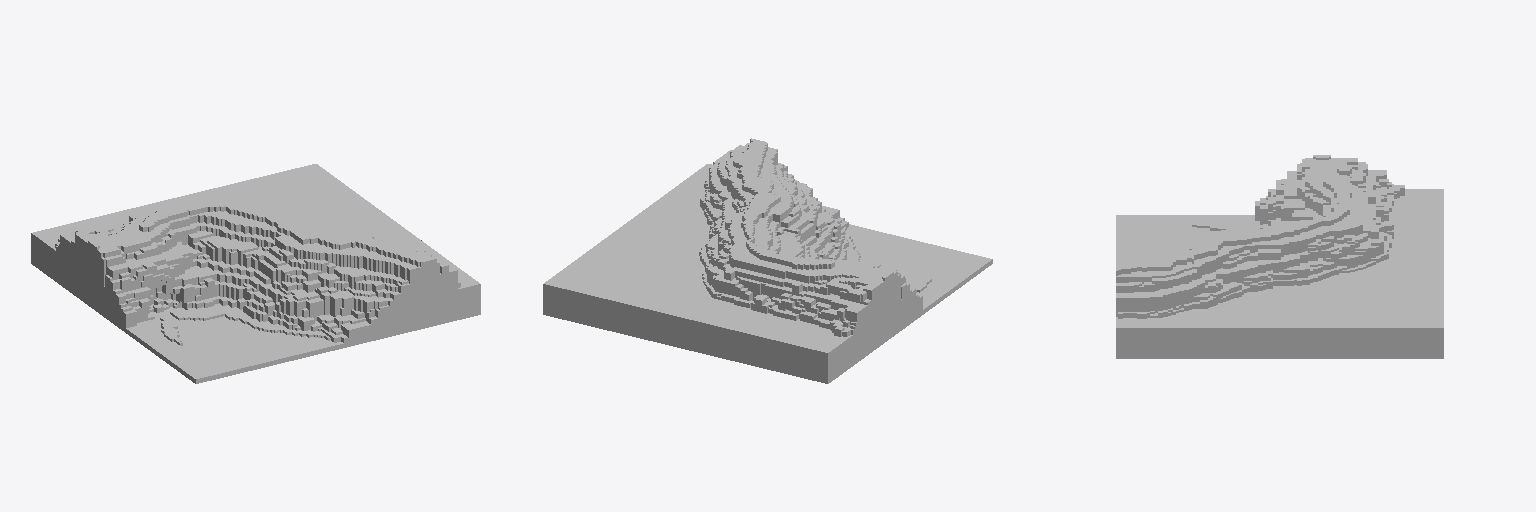
Rendered from Map (35).obj.
3 views of the same model, side by side, from view 1: azimuth 30°, elevation 25°; view 2: azimuth 150°, elevation 25°; view 3: azimuth 270°, elevation 25° (orthographic).
Visible parts, largest first — view 1: ALL MAP!!!!!!!!!!!-32; view 2: ALL MAP!!!!!!!!!!!-32; view 3: ALL MAP!!!!!!!!!!!-32.
Boxes of the visible parts, x1=… form: ALL MAP!!!!!!!!!!!-32: x1=31, y1=164, x2=480, y2=383; ALL MAP!!!!!!!!!!!-32: x1=543, y1=138, x2=992, y2=383; ALL MAP!!!!!!!!!!!-32: x1=1116, y1=155, x2=1443, y2=358.
Bounding box in the file's own units: 125 × 28 × 125.